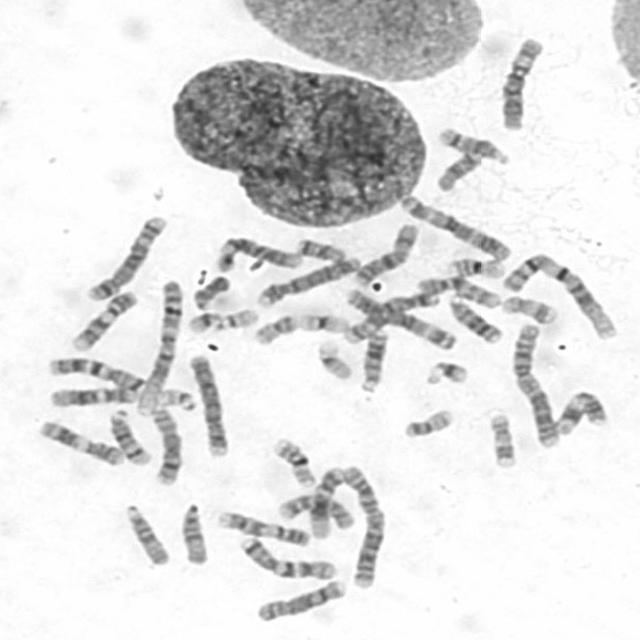A1: (496, 247, 620, 342), (131, 274, 185, 418)
A2: (508, 318, 564, 451), (338, 459, 387, 590)
A3: (396, 190, 514, 262), (341, 284, 457, 351)
B4: (252, 251, 365, 308), (184, 348, 232, 459)
B5: (80, 210, 170, 302), (340, 284, 450, 348)
C10: (270, 488, 356, 532), (413, 271, 503, 310)
C11: (34, 415, 128, 468), (551, 386, 612, 436)
C12: (305, 462, 345, 540), (45, 380, 139, 409)
C6: (496, 32, 547, 131), (210, 232, 306, 274)
C7: (234, 530, 341, 580), (43, 352, 147, 394)
C8: (251, 574, 349, 624), (147, 401, 185, 488)
C9: (67, 285, 140, 352), (214, 505, 314, 548)
D13: (442, 288, 505, 345), (356, 324, 391, 393)
D14: (433, 122, 513, 166), (104, 405, 154, 466)
D15: (120, 499, 174, 567), (177, 498, 211, 566)
E16: (269, 433, 318, 488), (442, 252, 508, 280)
E17: (485, 406, 520, 471), (498, 290, 562, 325)
E18: (431, 145, 484, 193), (292, 234, 348, 264)
F19: (312, 336, 356, 381), (295, 308, 350, 335)
F20: (399, 404, 457, 439), (250, 309, 300, 346)
G21: (421, 356, 472, 386), (183, 307, 225, 335)
G22: (212, 303, 260, 331), (152, 383, 198, 411)
X: (348, 219, 422, 287)
Y: (188, 270, 232, 310)
